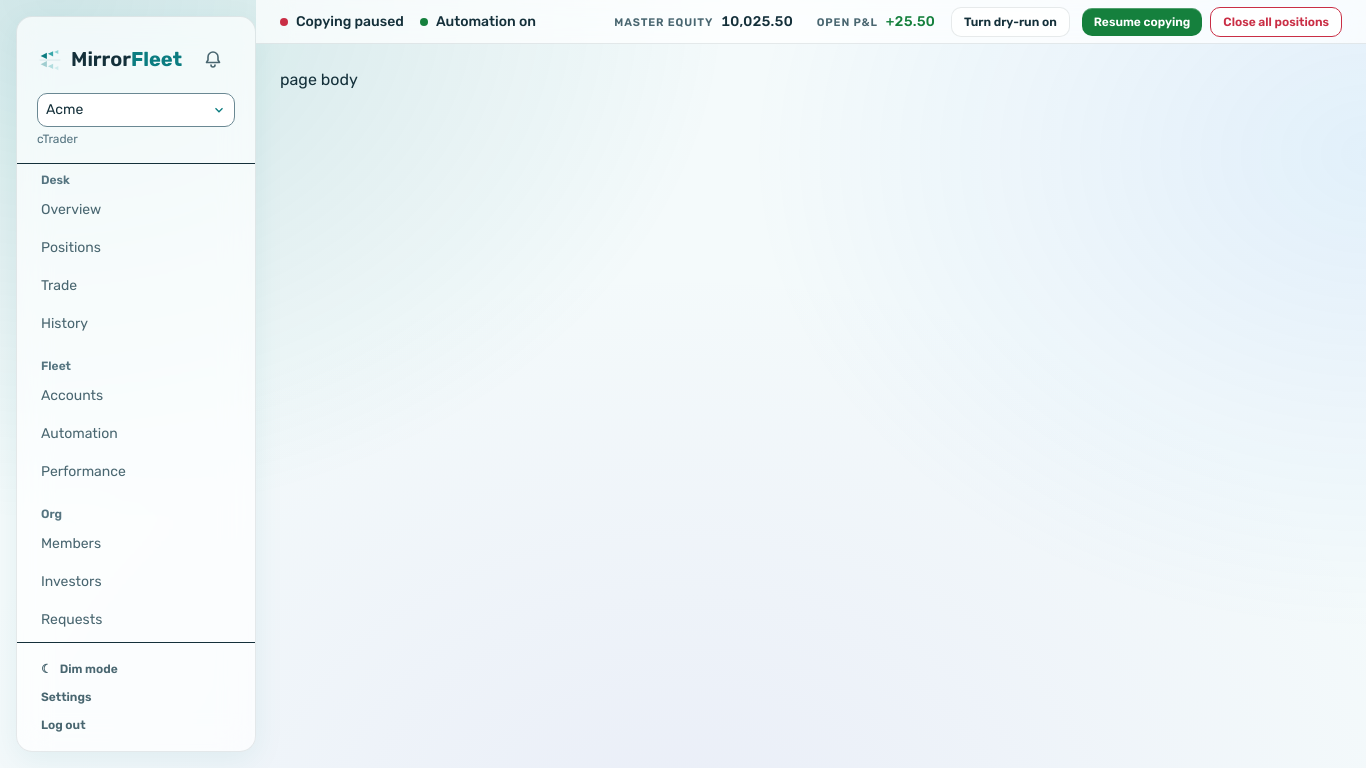
Test: close-all on a stopped org says copying stays stopped
Click the button "Close all positions" at coordinates (1276, 22), box [1210, 6, 1342, 36]
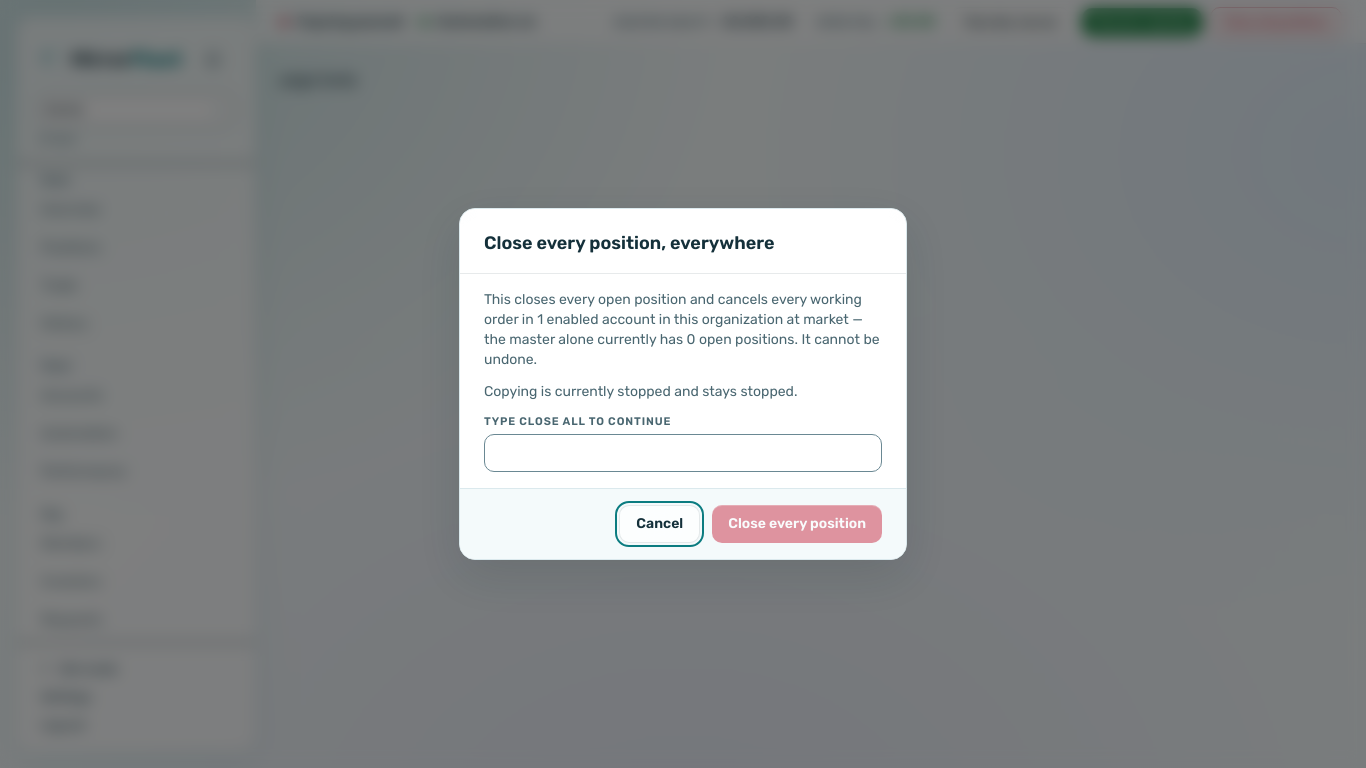
Now the text "Copying is currently stopped and stays stopped." is shown, box [484, 383, 798, 400]
Type "CLOSE ALL" into the field labelled "Type CLOSE ALL to continue" at coordinates (683, 453), box [484, 434, 882, 472]
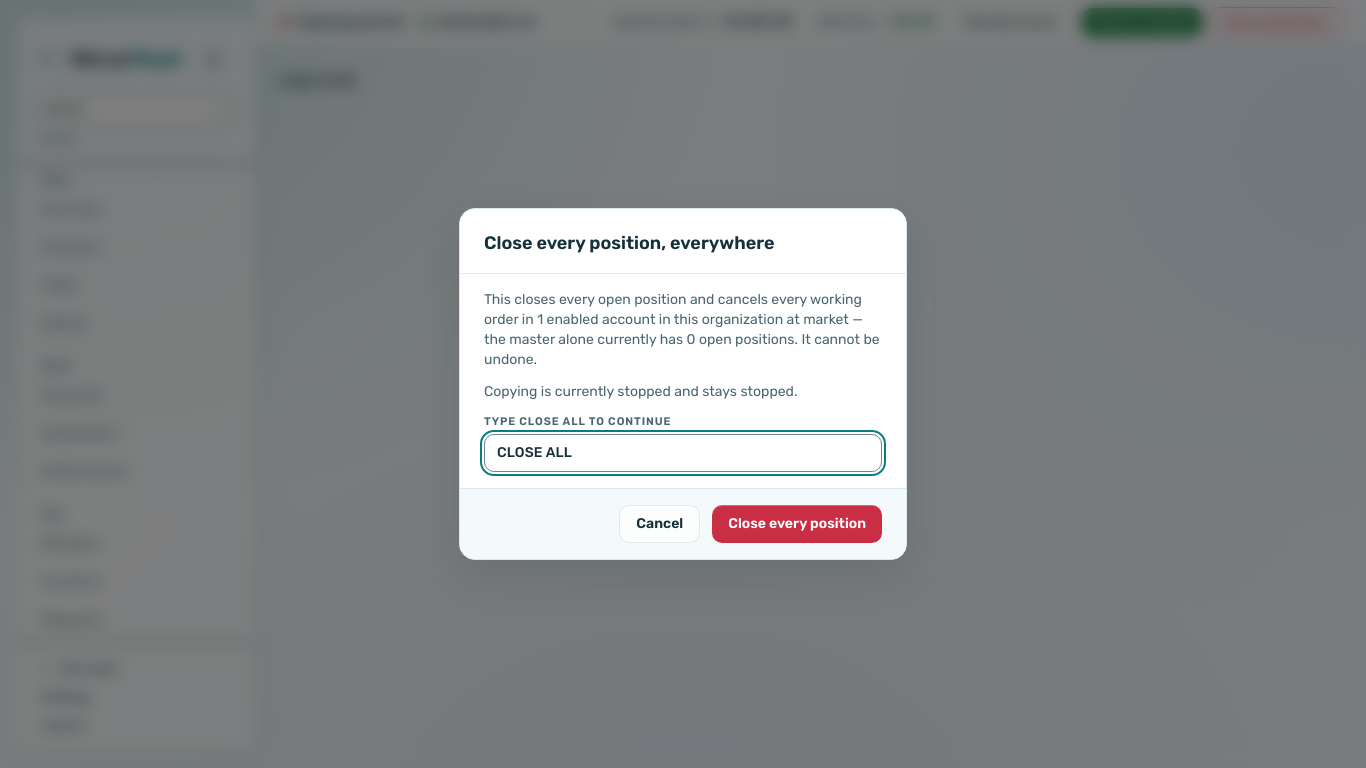
Click the button "Close every position" at coordinates (797, 524), box [712, 505, 882, 543]
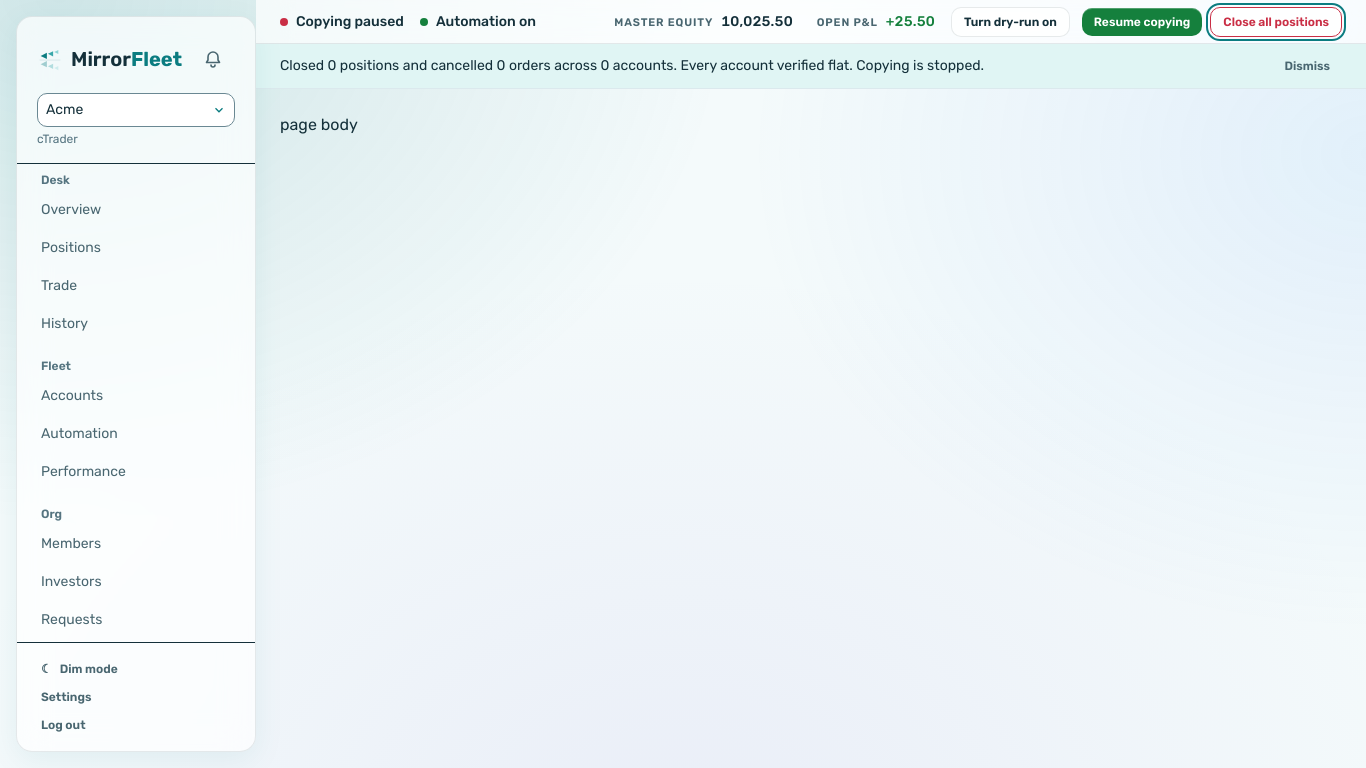
Now the text "Copying is stopped." is shown, box [280, 57, 984, 74]
